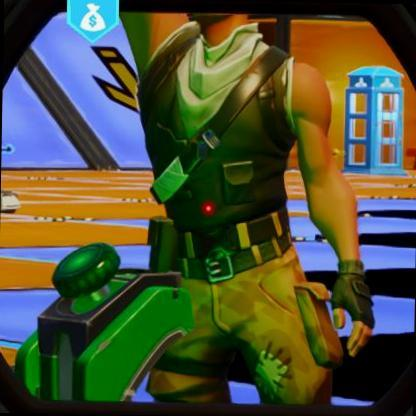person: (151, 12, 301, 361)
